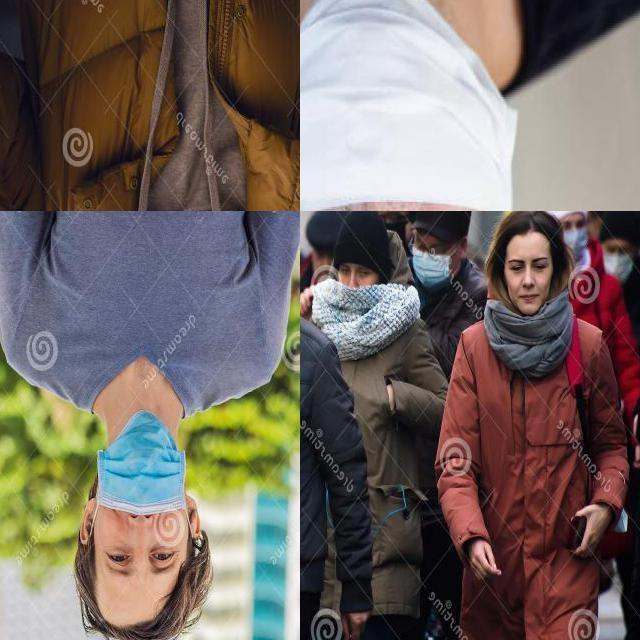hairnet: (100, 420, 182, 531)
